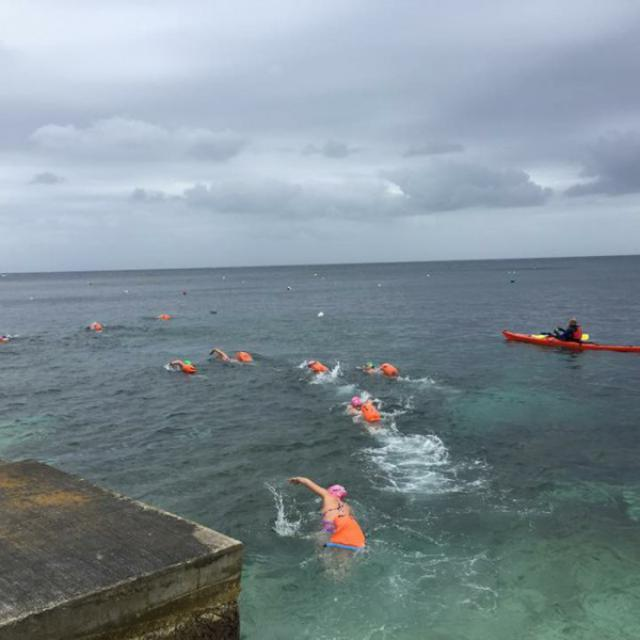human: (289, 466, 353, 520), (169, 351, 198, 379), (340, 388, 363, 423), (210, 341, 235, 370), (361, 355, 380, 375)
